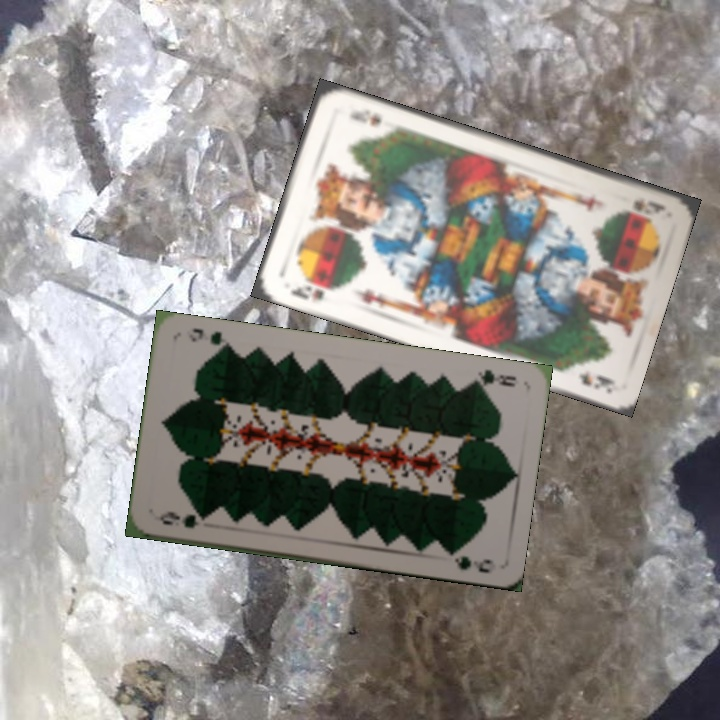G9: (464, 365, 519, 390), (155, 507, 211, 531)
SK: (629, 195, 669, 218), (287, 281, 327, 303)
